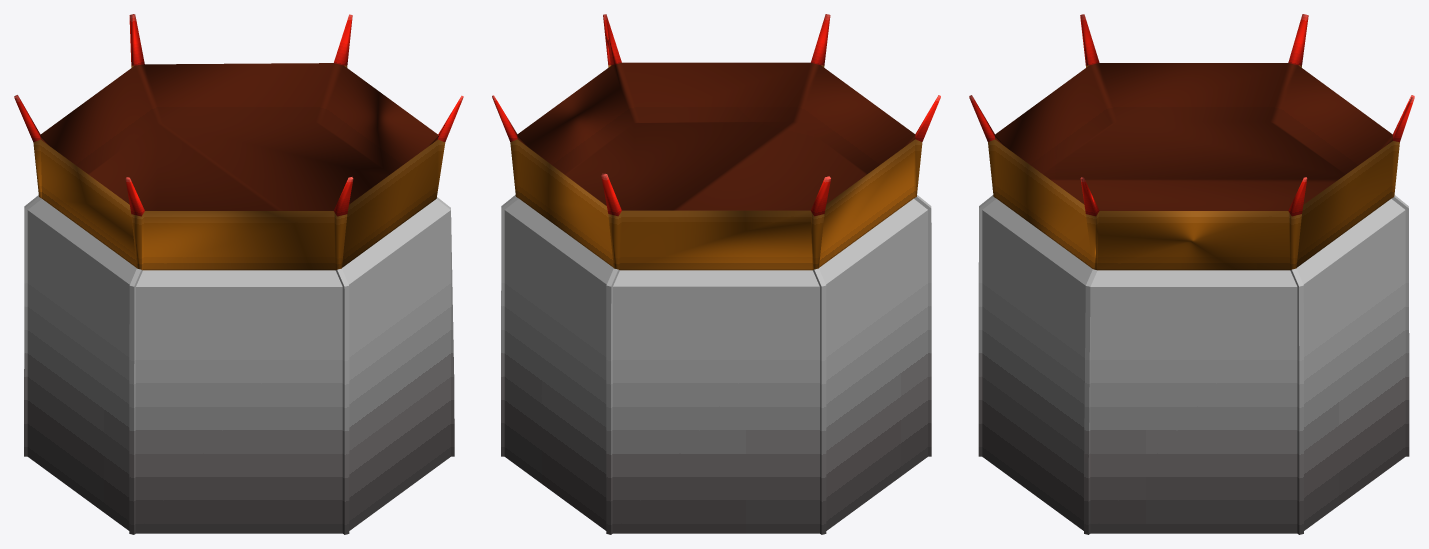
File: WallTowerCol.fbx
The picture shows the model from 3 angles, left to right: view 1: azimuth 30°, elevation 25°; view 2: azimuth 150°, elevation 25°; view 3: azimuth 270°, elevation 25°; orthographic projection.
Parts seen in each view (by area): view 1: Hexagon.001; view 2: Hexagon.001; view 3: Hexagon.001.
Boxes of the visible parts, <box> form: Hexagon.001: <box>14,14,463,534</box>; Hexagon.001: <box>492,14,940,534</box>; Hexagon.001: <box>969,14,1414,534</box>.
Size of the model in its own units: 96.07 by 97.86 by 109.
